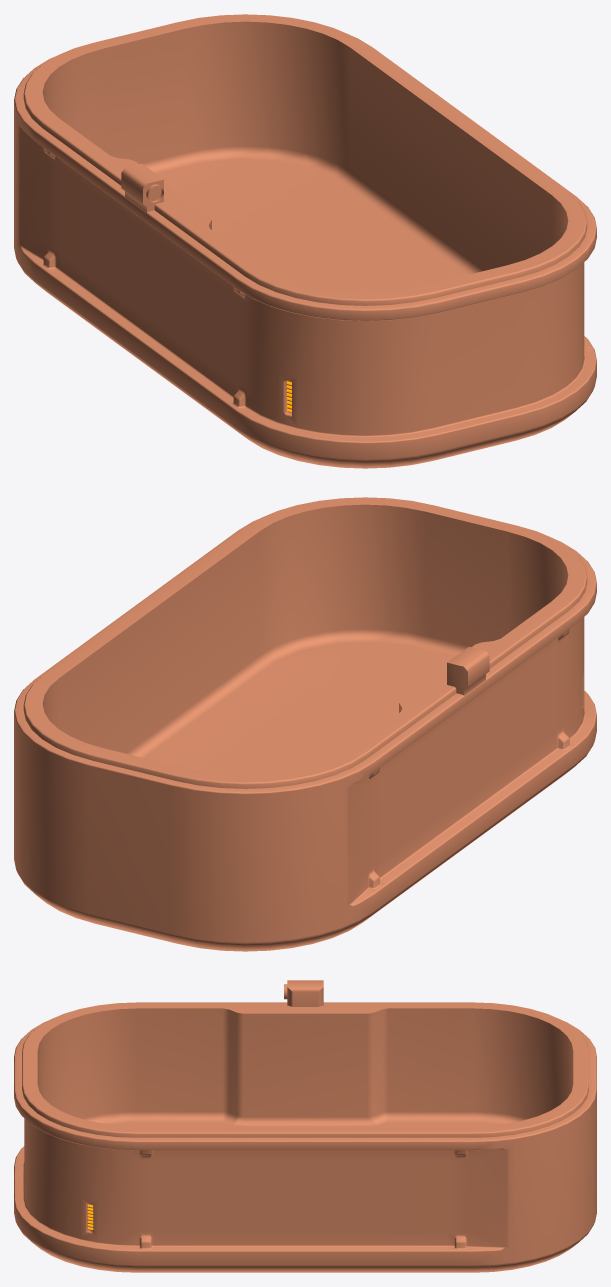
3 views of the same model, one above another, from view 1: azimuth 30°, elevation 25°; view 2: azimuth 150°, elevation 25°; view 3: azimuth 270°, elevation 25° (orthographic). The views are drawn at different scales.
Parts seen in each view (by area): view 1: Box02_01; view 2: Box02_01; view 3: Box02_01.
Boxes of the visible parts, bbox=[...] form: Box02_01: bbox=[14, 14, 596, 468]; Box02_01: bbox=[14, 497, 596, 951]; Box02_01: bbox=[14, 980, 596, 1272].
Bounding box in the file's own units: 72.95 × 39.16 × 129.
